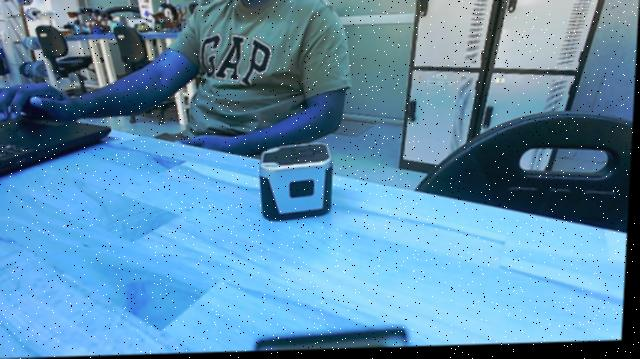adapter: (252, 140, 344, 227)
